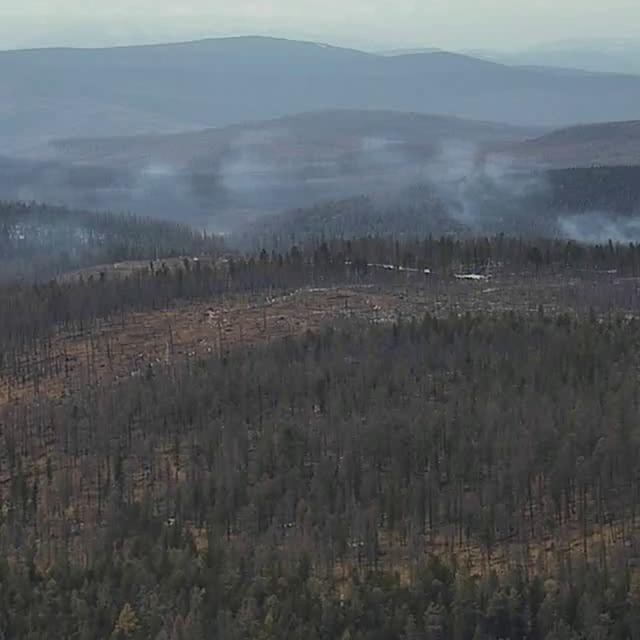Smoke: (0, 126, 639, 278)
